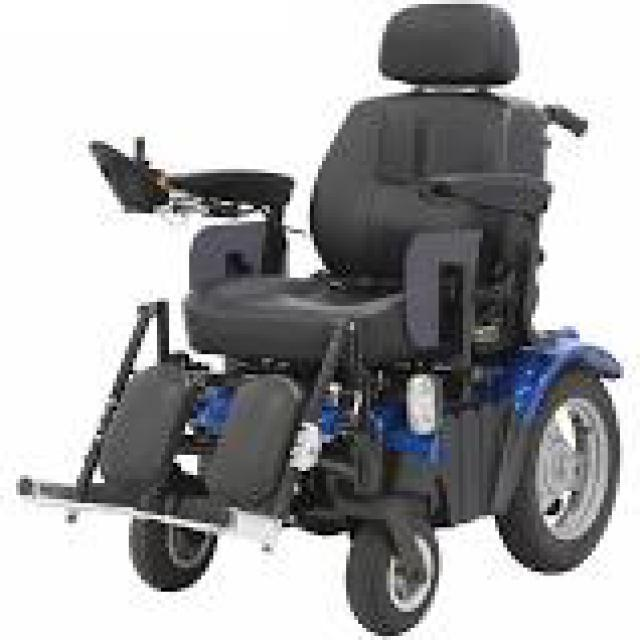wheelchair: (16, 4, 632, 636)
